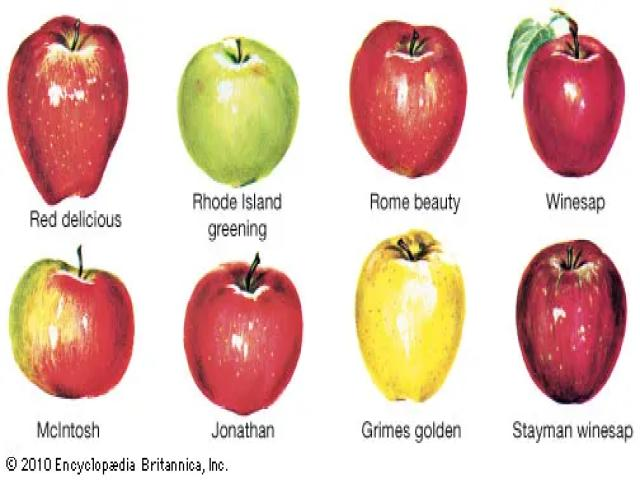apple: (7, 13, 128, 205), (508, 5, 625, 176), (8, 242, 134, 399), (182, 251, 302, 415), (354, 227, 465, 403), (348, 18, 467, 177), (514, 238, 628, 403), (175, 34, 298, 186)
